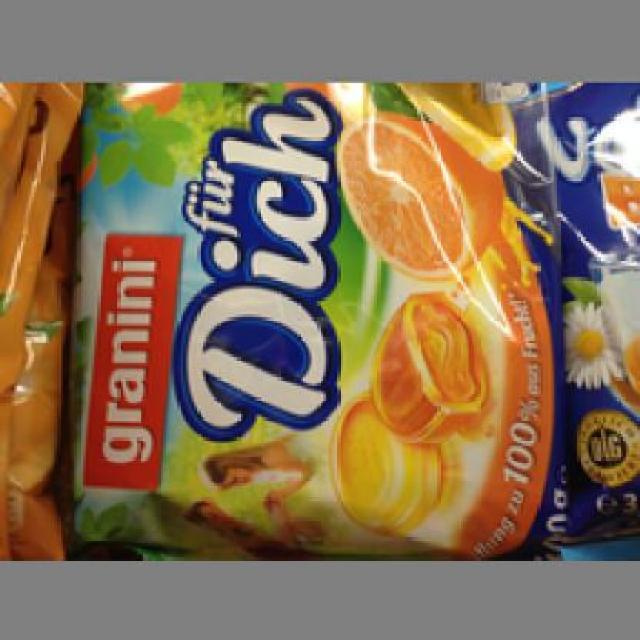Candy: (74, 82, 572, 552)
